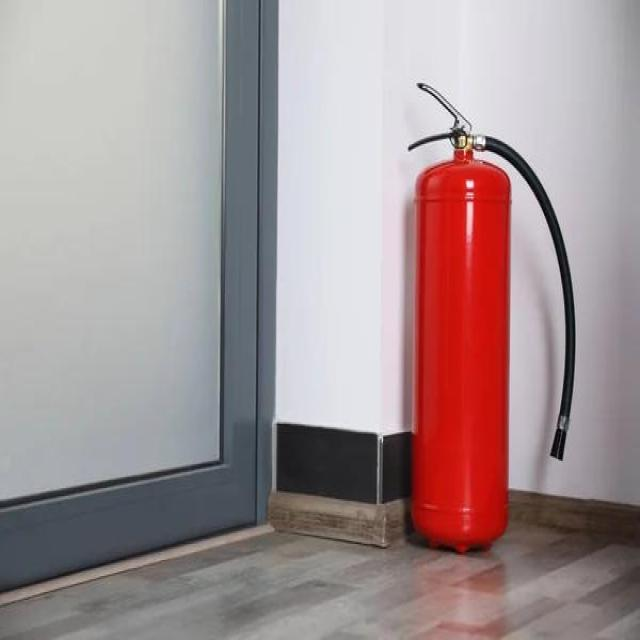fire_extinguisher: (403, 75, 580, 557)
